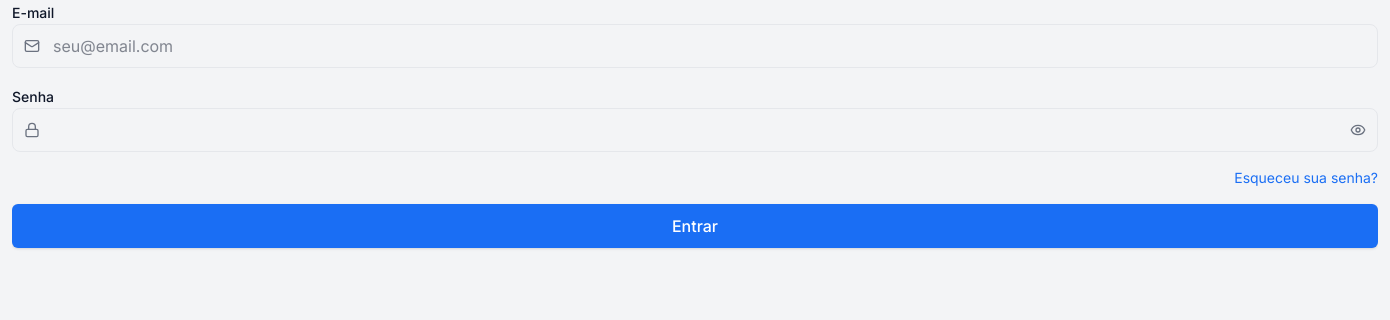
Test: auth forms › renders an alert when login fails
Type "a@b.com" into the field labelled "E-mail".
click(695, 46); type("a@b.com")  # box [12,24,1378,68]
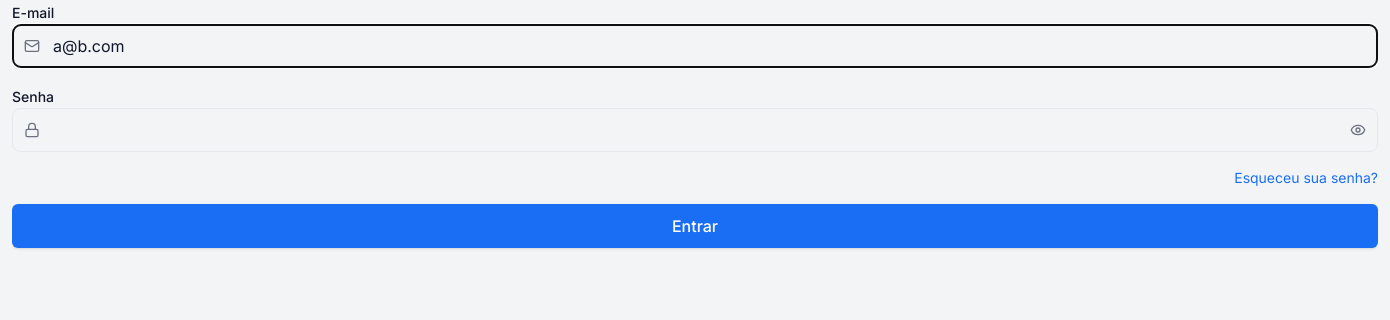
Type "password123!" into the password field labelled "Senha".
click(695, 130); type("password123!")  # box [12,108,1378,152]
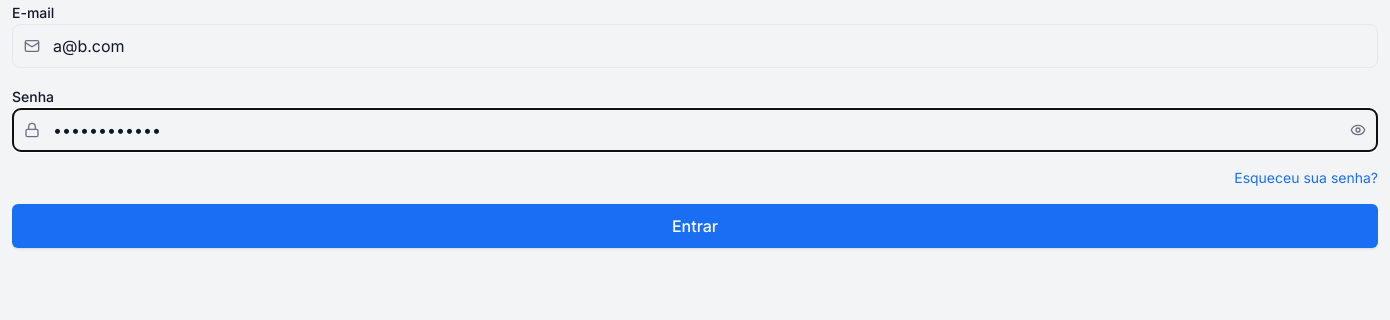
Click the button "Entrar".
click(695, 226)  # box [12,204,1378,248]
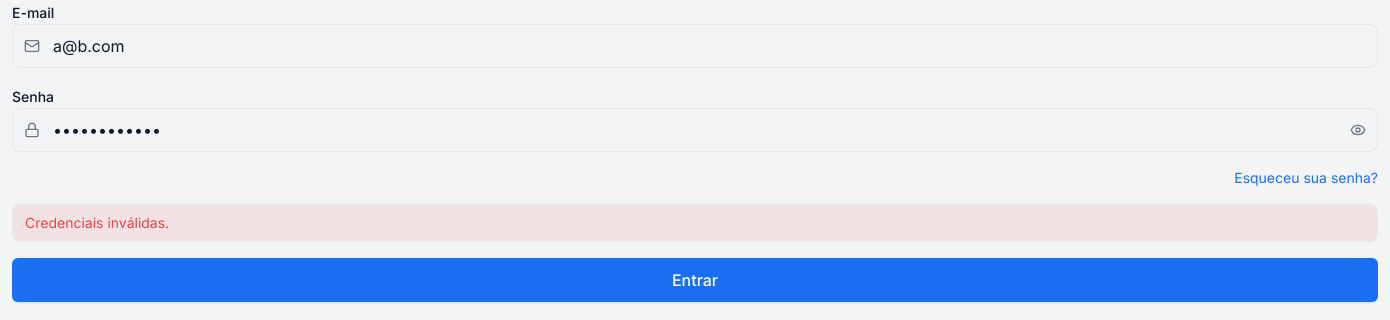
Expected: the message reads "Credenciais inválidas.", [25,214,169,231]
